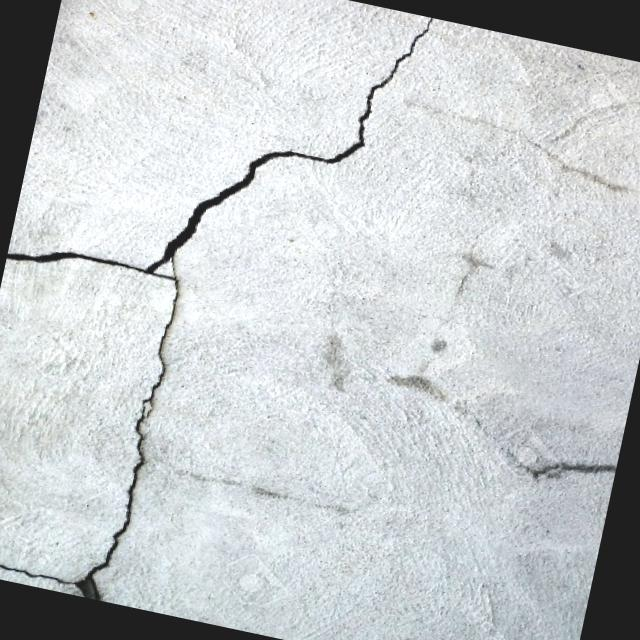crack: (164, 0, 434, 296), (88, 292, 185, 582), (7, 222, 188, 298), (498, 436, 616, 492), (0, 544, 100, 599)
